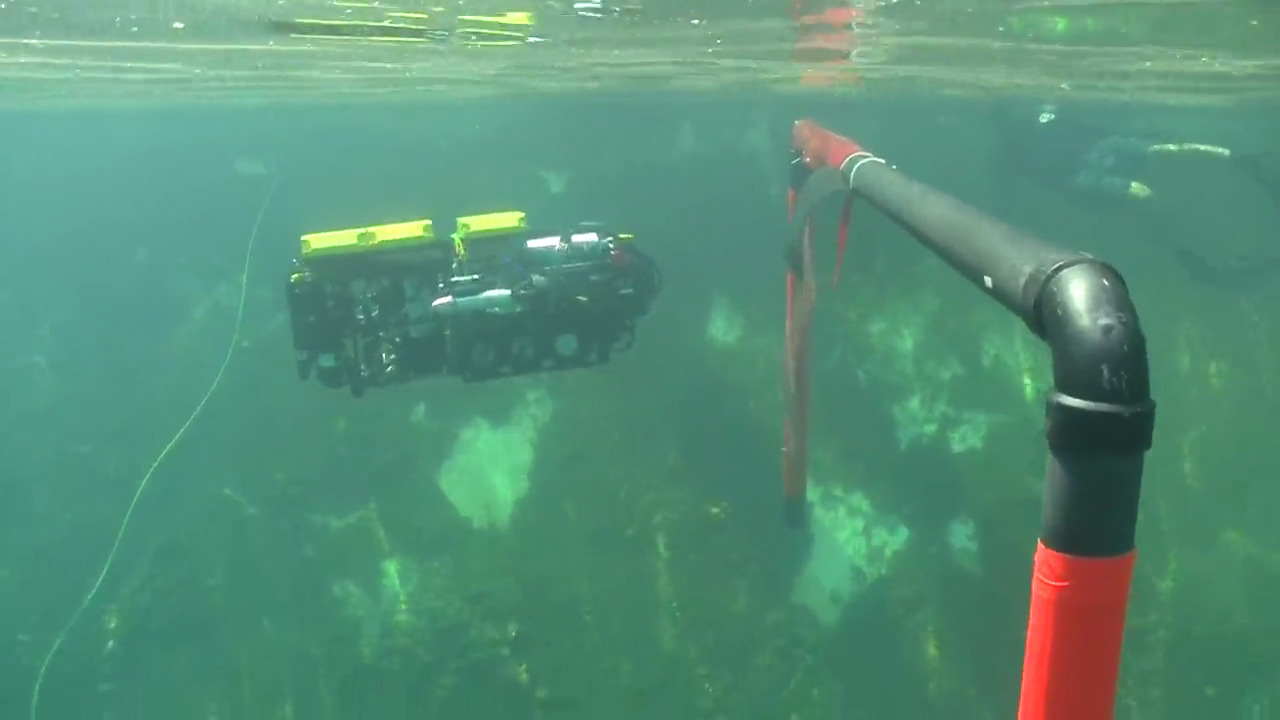gate: (777, 114, 1165, 720)
